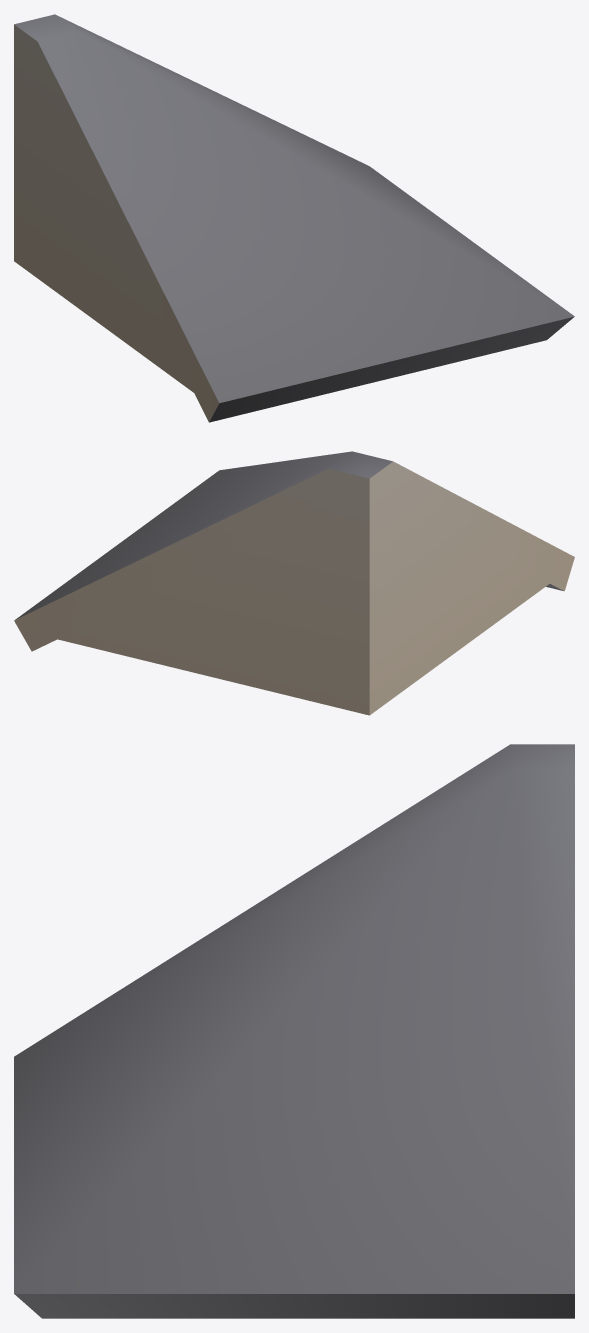
Rendered from roof-slanted-corner-c.glb.
The picture shows the model from 3 angles, top to bottom: view 1: azimuth 30°, elevation 25°; view 2: azimuth 150°, elevation 25°; view 3: azimuth 270°, elevation 25°; orthographic projection. The views are drawn at different scales.
Parts seen in each view (by area): view 1: roof-slanted-corner-c; view 2: roof-slanted-corner-c; view 3: roof-slanted-corner-c.
Part boxes in pixels (box(x1,y1,x2,y2)): roof-slanted-corner-c: box(14, 14, 574, 422); roof-slanted-corner-c: box(14, 451, 574, 715); roof-slanted-corner-c: box(14, 744, 574, 1318).
Size of the model in its own units: 1.14 by 0.782 by 1.14.
